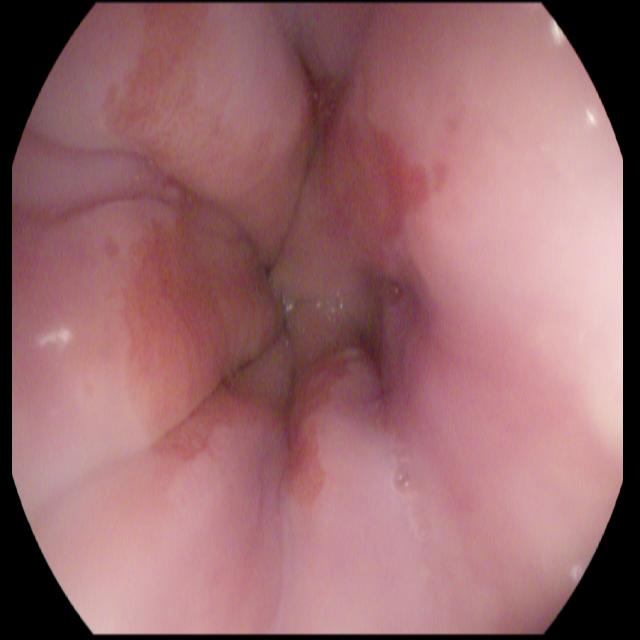esophagitis: (79, 5, 464, 527)
